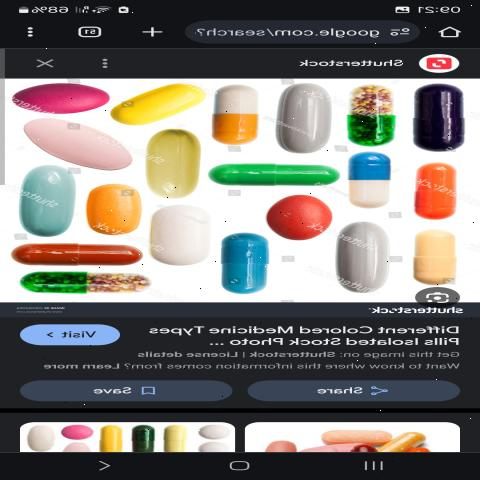Pill: (319, 216, 407, 300), (260, 78, 344, 162), (14, 113, 126, 174), (124, 124, 211, 201), (1, 161, 87, 238), (143, 198, 218, 271), (209, 229, 287, 298), (256, 188, 353, 243), (402, 81, 465, 153), (202, 81, 264, 154), (401, 225, 469, 286), (339, 149, 400, 214)
